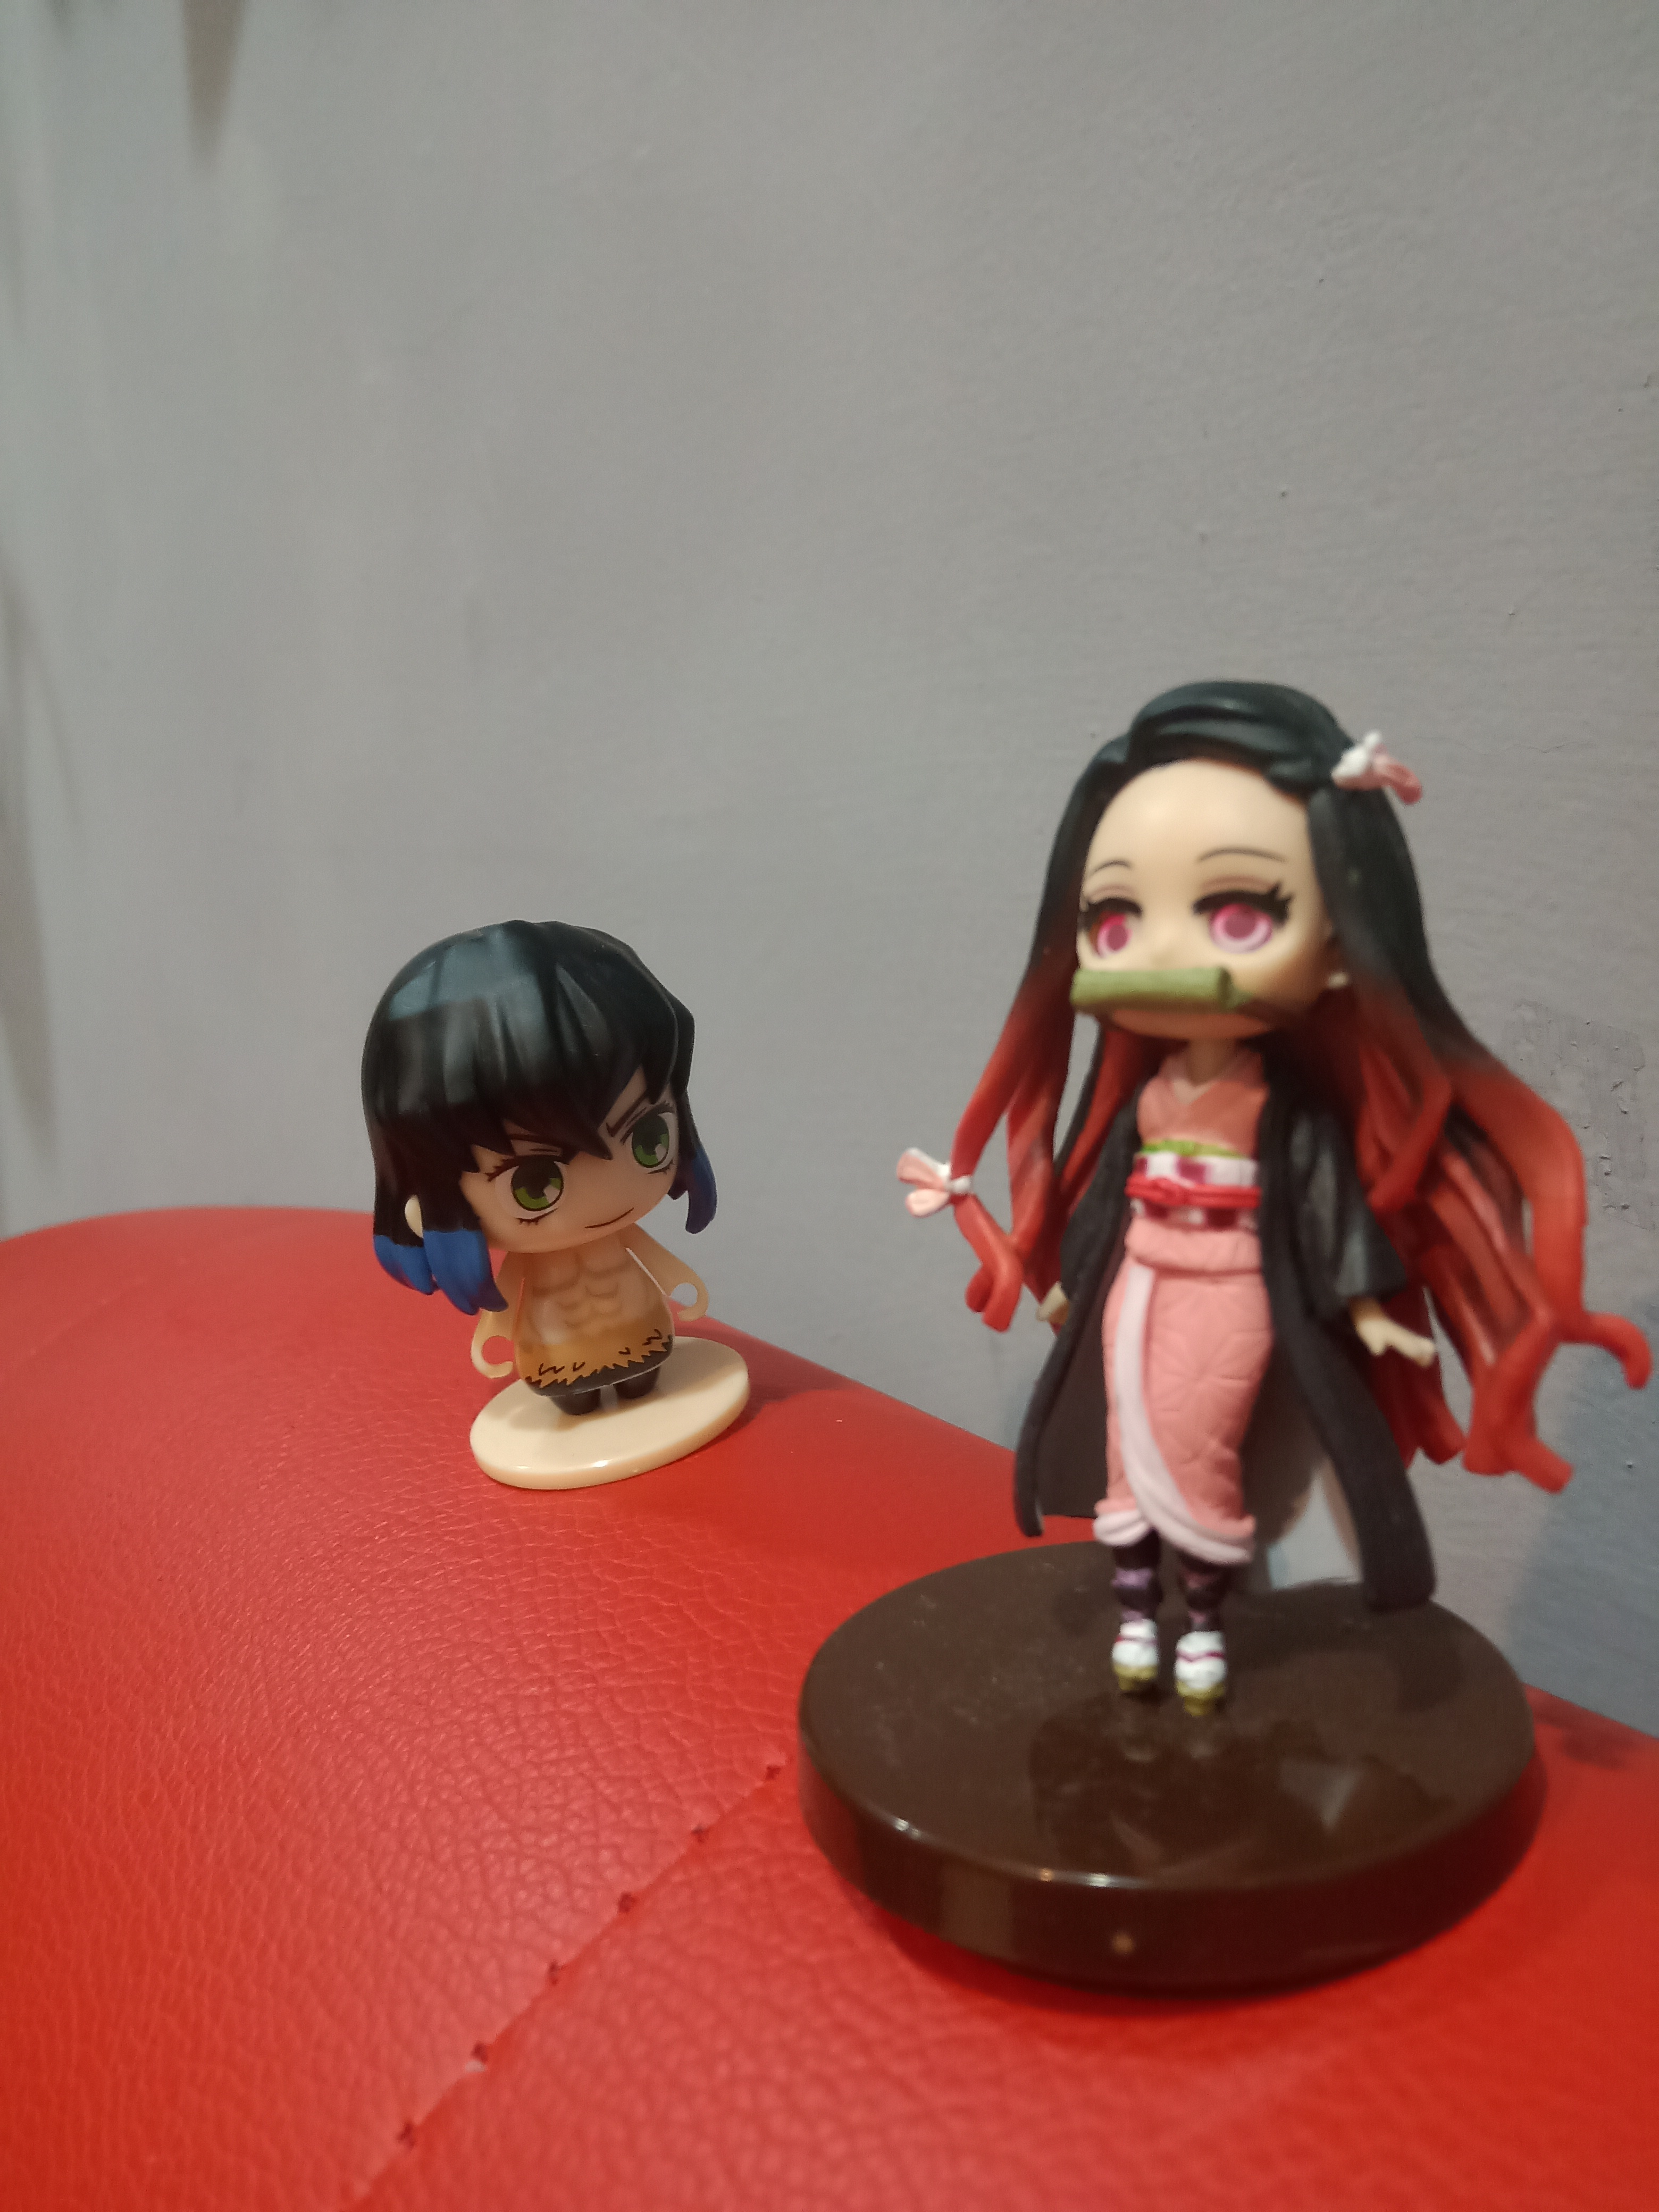Inosuke: (324, 894, 782, 1512)
Nezuko: (791, 665, 1656, 2010)
